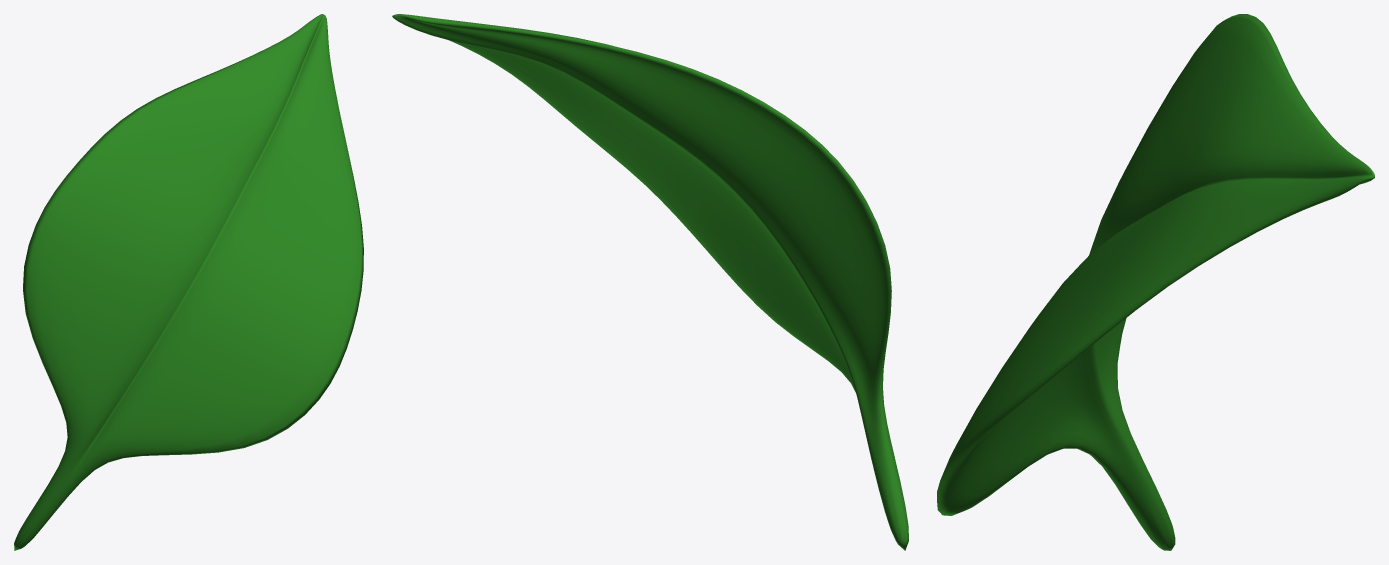
The picture shows the model from 3 angles, left to right: view 1: azimuth 30°, elevation 25°; view 2: azimuth 150°, elevation 25°; view 3: azimuth 270°, elevation 25°; orthographic projection. The views are drawn at different scales.
Parts seen in each view (by area): view 1: Plane.001; view 2: Plane.001; view 3: Plane.001.
Part boxes in pixels (x1,y1,x2,y2): Plane.001: (14, 14, 363, 550); Plane.001: (392, 14, 908, 550); Plane.001: (937, 14, 1374, 550).
Size of the model in its own units: 3.61 by 3.75 by 2.18.
